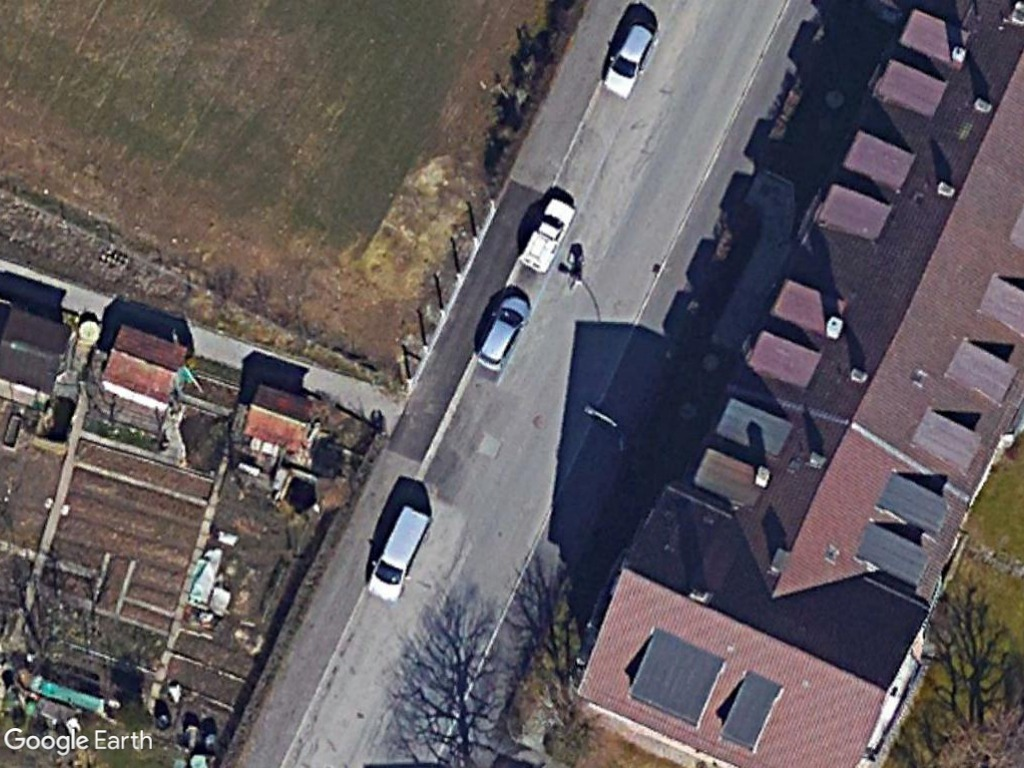car: (597, 16, 661, 100), (473, 292, 531, 372)
van: (364, 504, 431, 601)
